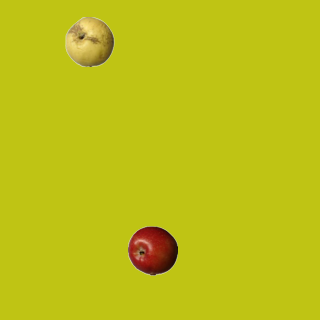Apple Braeburn: (127, 225, 177, 275)
Apple Golden 1: (64, 16, 114, 66)
